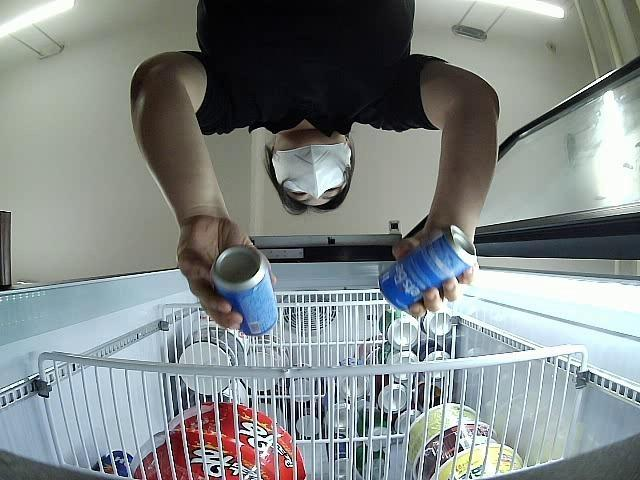15_letsbe: (376, 222, 476, 308), (208, 244, 280, 340)
